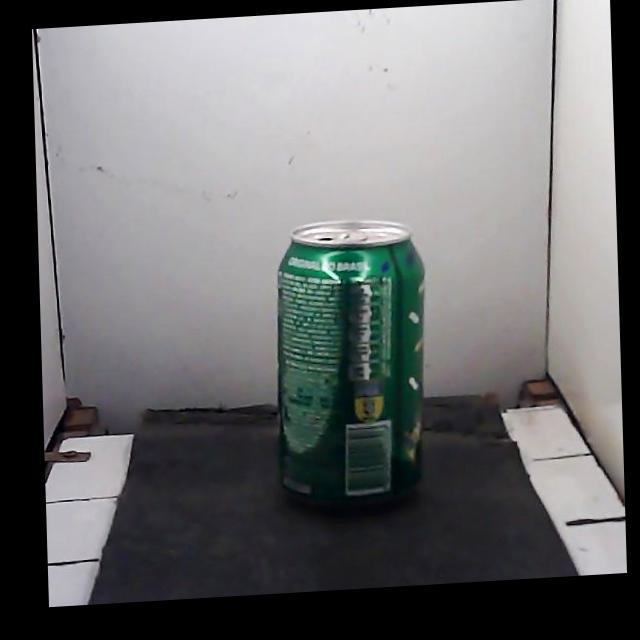metal: (278, 221, 424, 505)
